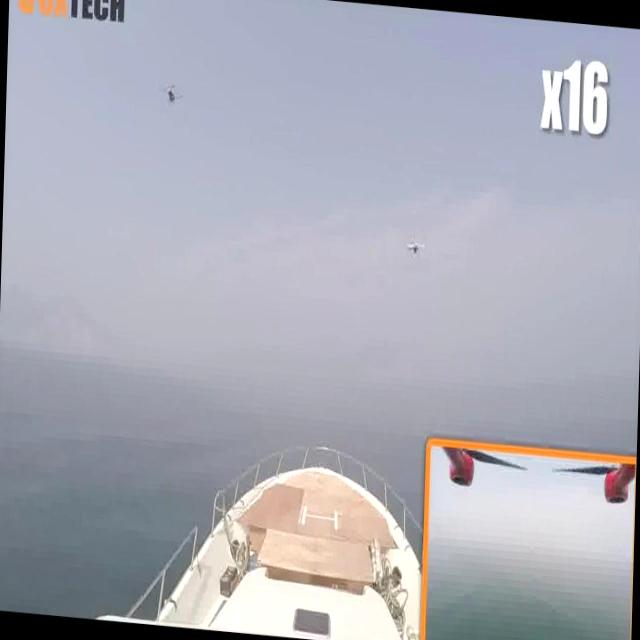drone: (151, 71, 187, 110), (403, 228, 428, 270)
